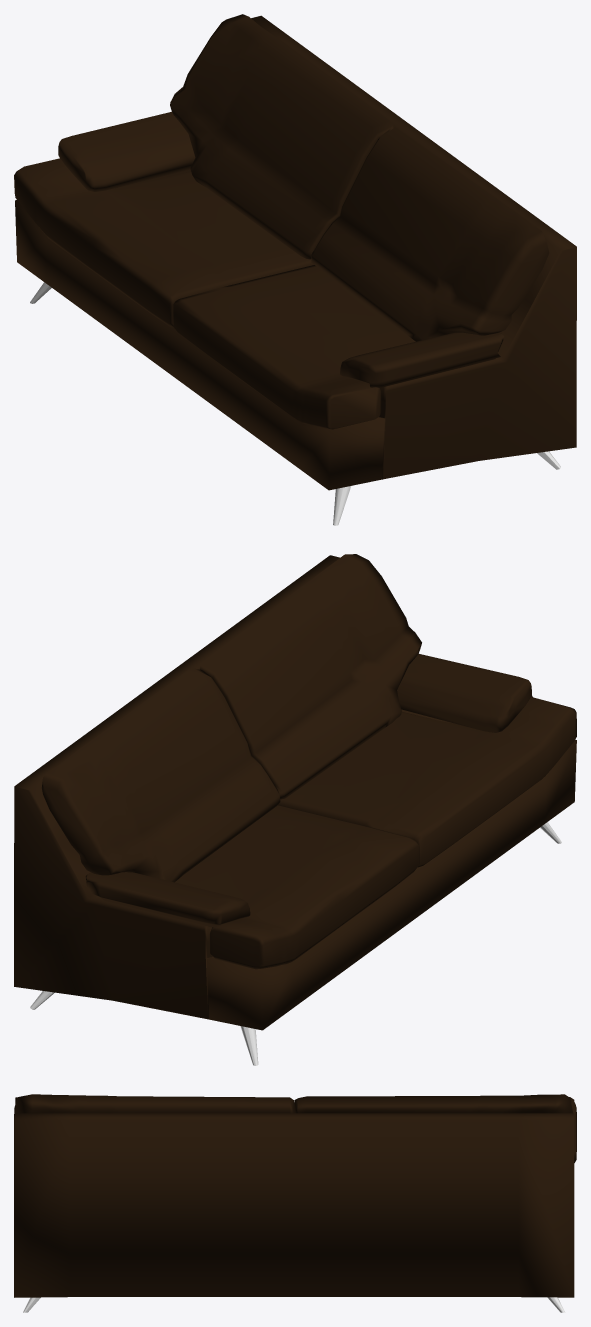
The model's file is MDL_couch.fbx.
3 views of the same model, one above another, from view 1: azimuth 30°, elevation 25°; view 2: azimuth 150°, elevation 25°; view 3: azimuth 270°, elevation 25° (orthographic). The views are drawn at different scales.
Visible parts, largest first — view 1: MDL_Couch; view 2: MDL_Couch; view 3: MDL_Couch.
Part boxes in pixels (left/top/right/bottom): MDL_Couch: left=14, top=14, right=576, bottom=525; MDL_Couch: left=14, top=554, right=576, bottom=1065; MDL_Couch: left=14, top=1094, right=576, bottom=1312.
Size of the model in its own units: 90.73 by 83.58 by 201.
